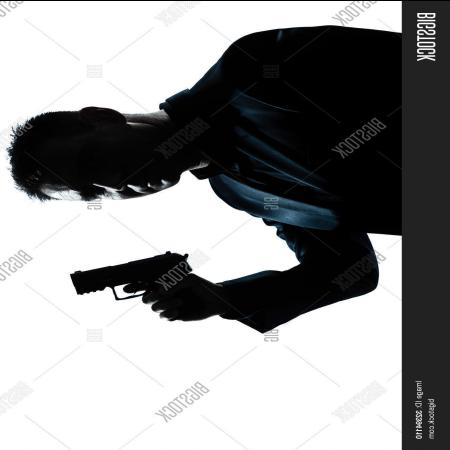Pistol: (67, 246, 195, 310)
